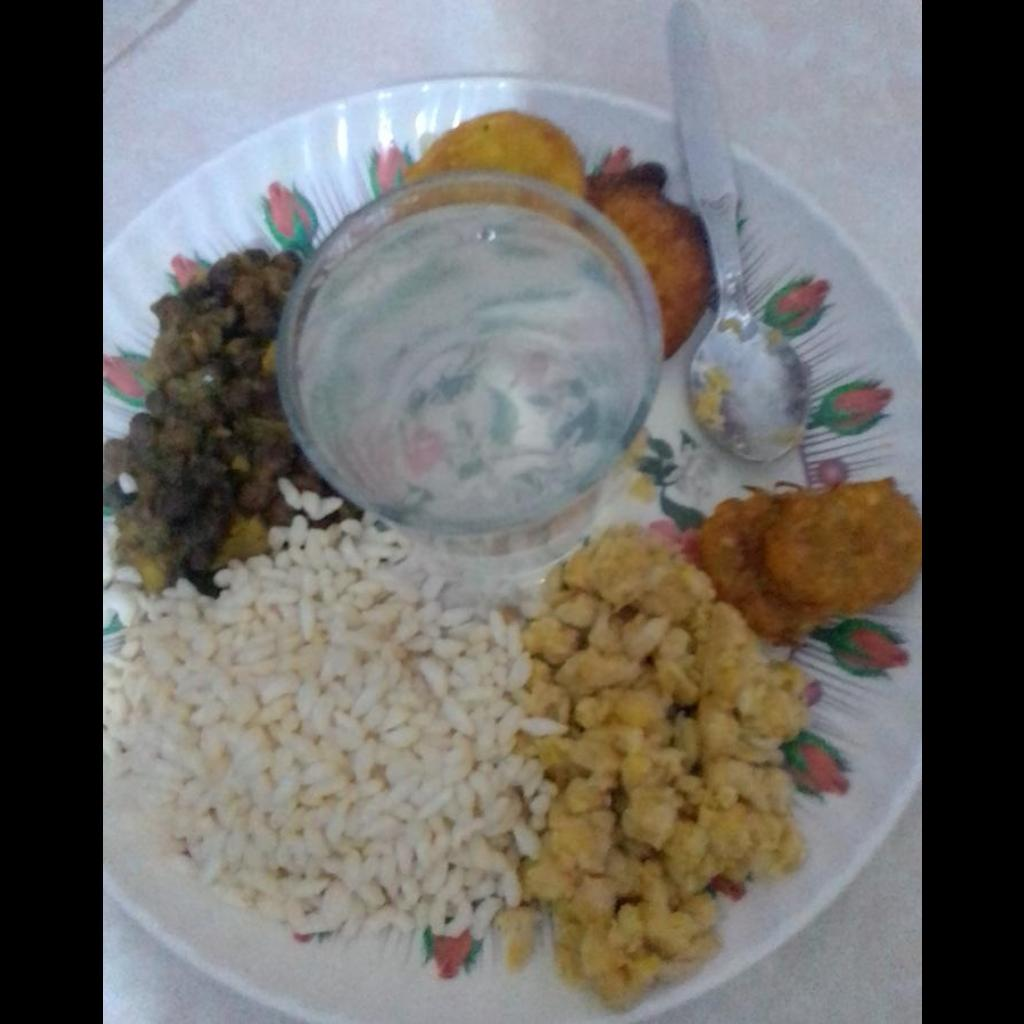chola: (104, 251, 292, 593)
daal: (502, 525, 804, 1007)
kabab: (388, 111, 717, 352)
peyaju: (695, 477, 920, 634)
puffed-rice: (107, 518, 559, 934)
